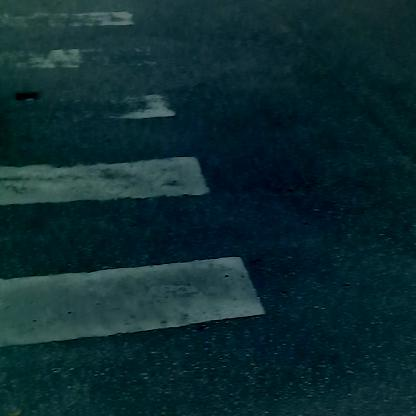crosswalk: (1, 8, 271, 325)
